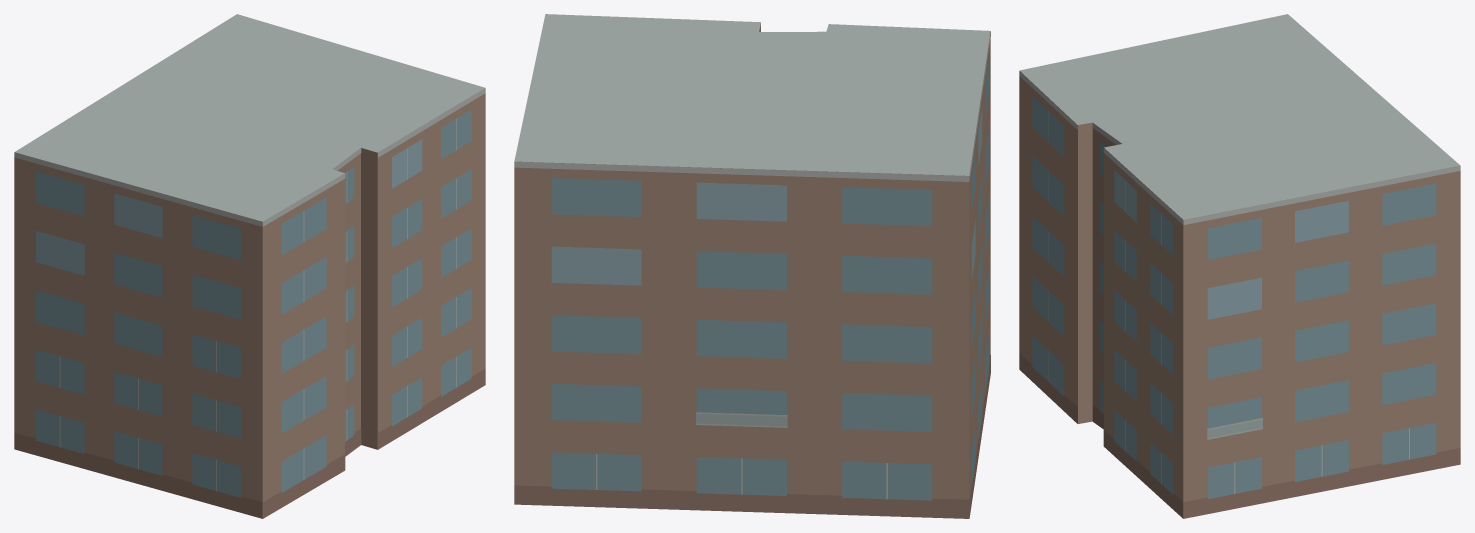
The model's file is survey-upis-32740656.glb.
3 views of the same model, side by side, from view 1: azimuth 30°, elevation 25°; view 2: azimuth 150°, elevation 25°; view 3: azimuth 270°, elevation 25° (orthographic). The views are drawn at different scales.
Visible parts, largest first — view 1: survey-upis-32740656.tmp; view 2: survey-upis-32740656.tmp; view 3: survey-upis-32740656.tmp.
Boxes of the visible parts, bbox=[...] form: survey-upis-32740656.tmp: bbox=[14, 14, 485, 518]; survey-upis-32740656.tmp: bbox=[514, 14, 990, 518]; survey-upis-32740656.tmp: bbox=[1019, 14, 1460, 518].
Size of the model in its own units: 20.31 by 13.75 by 18.4.
